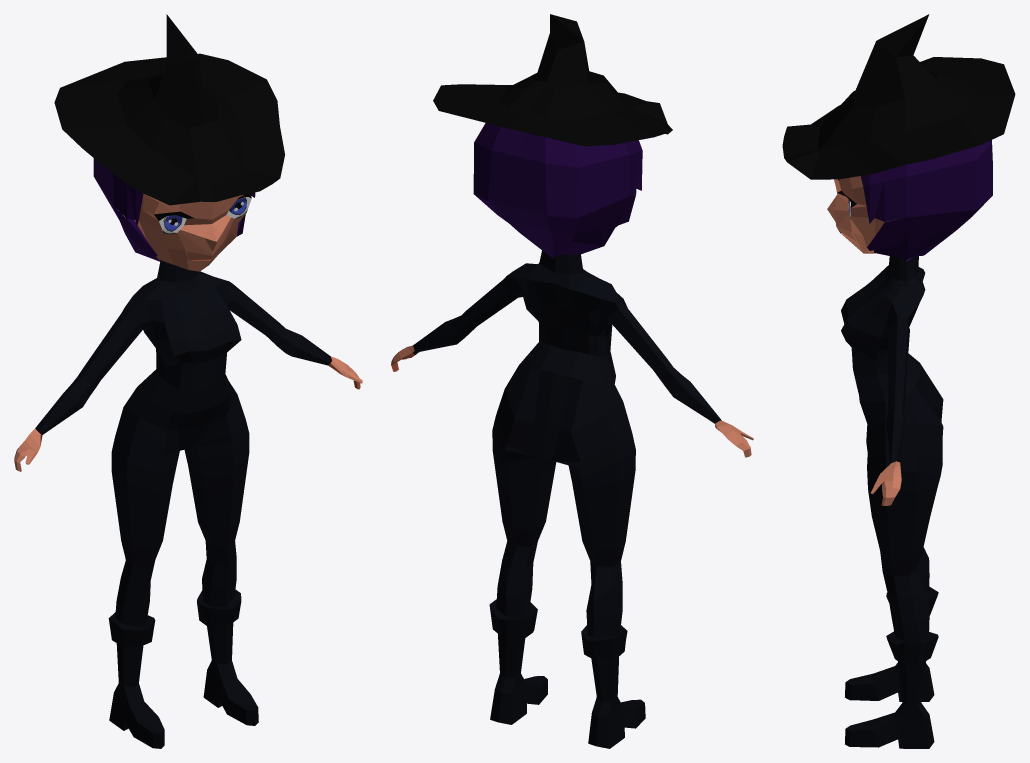
The model's file is witch.obj.
3 renders of one model, left to right at view 1: azimuth 30°, elevation 25°; view 2: azimuth 150°, elevation 25°; view 3: azimuth 270°, elevation 25°, orthographic. The views are drawn at different scales.
Parts seen in each view (by area): view 1: Cylinder_Cylinder_clothes, Cylinder_Cylinder_pupil, Cylinder_Cylinder_shoes, Cylinder_Cylinder_skin, Cylinder_Cylinder_hair; view 2: Cylinder_Cylinder_clothes, Cylinder_Cylinder_hair, Cylinder_Cylinder_pupil, Cylinder_Cylinder_shoes, Cylinder_Cylinder_skin; view 3: Cylinder_Cylinder_clothes, Cylinder_Cylinder_pupil, Cylinder_Cylinder_hair, Cylinder_Cylinder_shoes, Cylinder_Cylinder_skin.
Part boxes in pixels (x1,y1,x2,y2): Cylinder_Cylinder_clothes: (35,260,331,627); Cylinder_Cylinder_pupil: (54,14,284,234); Cylinder_Cylinder_shoes: (108,589,258,748); Cylinder_Cylinder_skin: (14,193,362,471); Cylinder_Cylinder_hair: (93,158,255,261); Cylinder_Cylinder_clothes: (413,250,721,637); Cylinder_Cylinder_hair: (473,123,642,258); Cylinder_Cylinder_pupil: (433,14,672,146); Cylinder_Cylinder_shoes: (489,599,645,748); Cylinder_Cylinder_skin: (391,345,753,457); Cylinder_Cylinder_clothes: (841,255,943,641); Cylinder_Cylinder_pupil: (782,14,1015,233); Cylinder_Cylinder_hair: (838,140,992,262); Cylinder_Cylinder_shoes: (844,586,938,748); Cylinder_Cylinder_skin: (827,176,901,505).
Size of the model in its own units: 1.36 by 2.61 by 0.7802.
